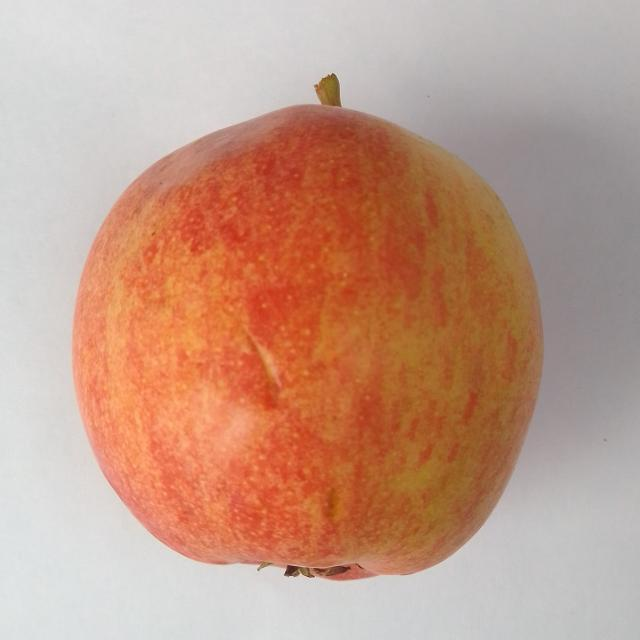Fresh Apple: (58, 99, 547, 584)
